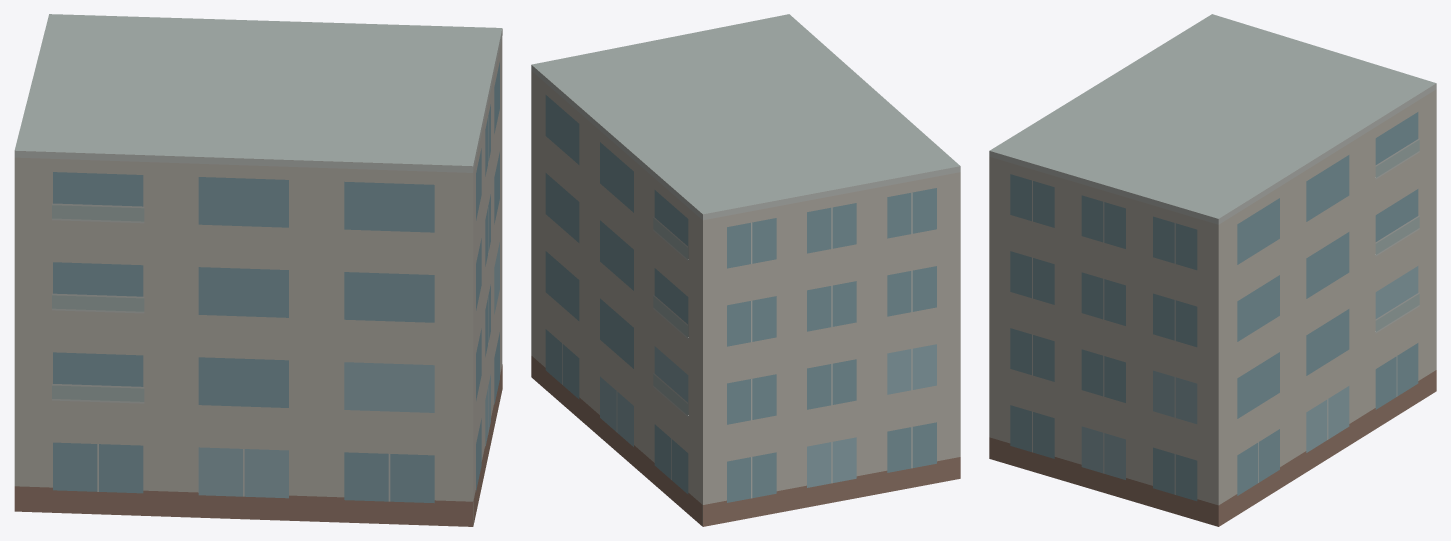
File: survey-upis-32780076.glb
3 renders of one model, left to right at view 1: azimuth 30°, elevation 25°; view 2: azimuth 150°, elevation 25°; view 3: azimuth 270°, elevation 25°, orthographic. The views are drawn at different scales.
Parts seen in each view (by area): view 1: survey-upis-32780076.tmp; view 2: survey-upis-32780076.tmp; view 3: survey-upis-32780076.tmp.
Part boxes in pixels (<box>): survey-upis-32780076.tmp: <box>14,14,502,526</box>; survey-upis-32780076.tmp: <box>531,14,960,526</box>; survey-upis-32780076.tmp: <box>989,14,1436,526</box>.
Bounding box in the file's own units: 18.27 × 12.8 × 16.85.
